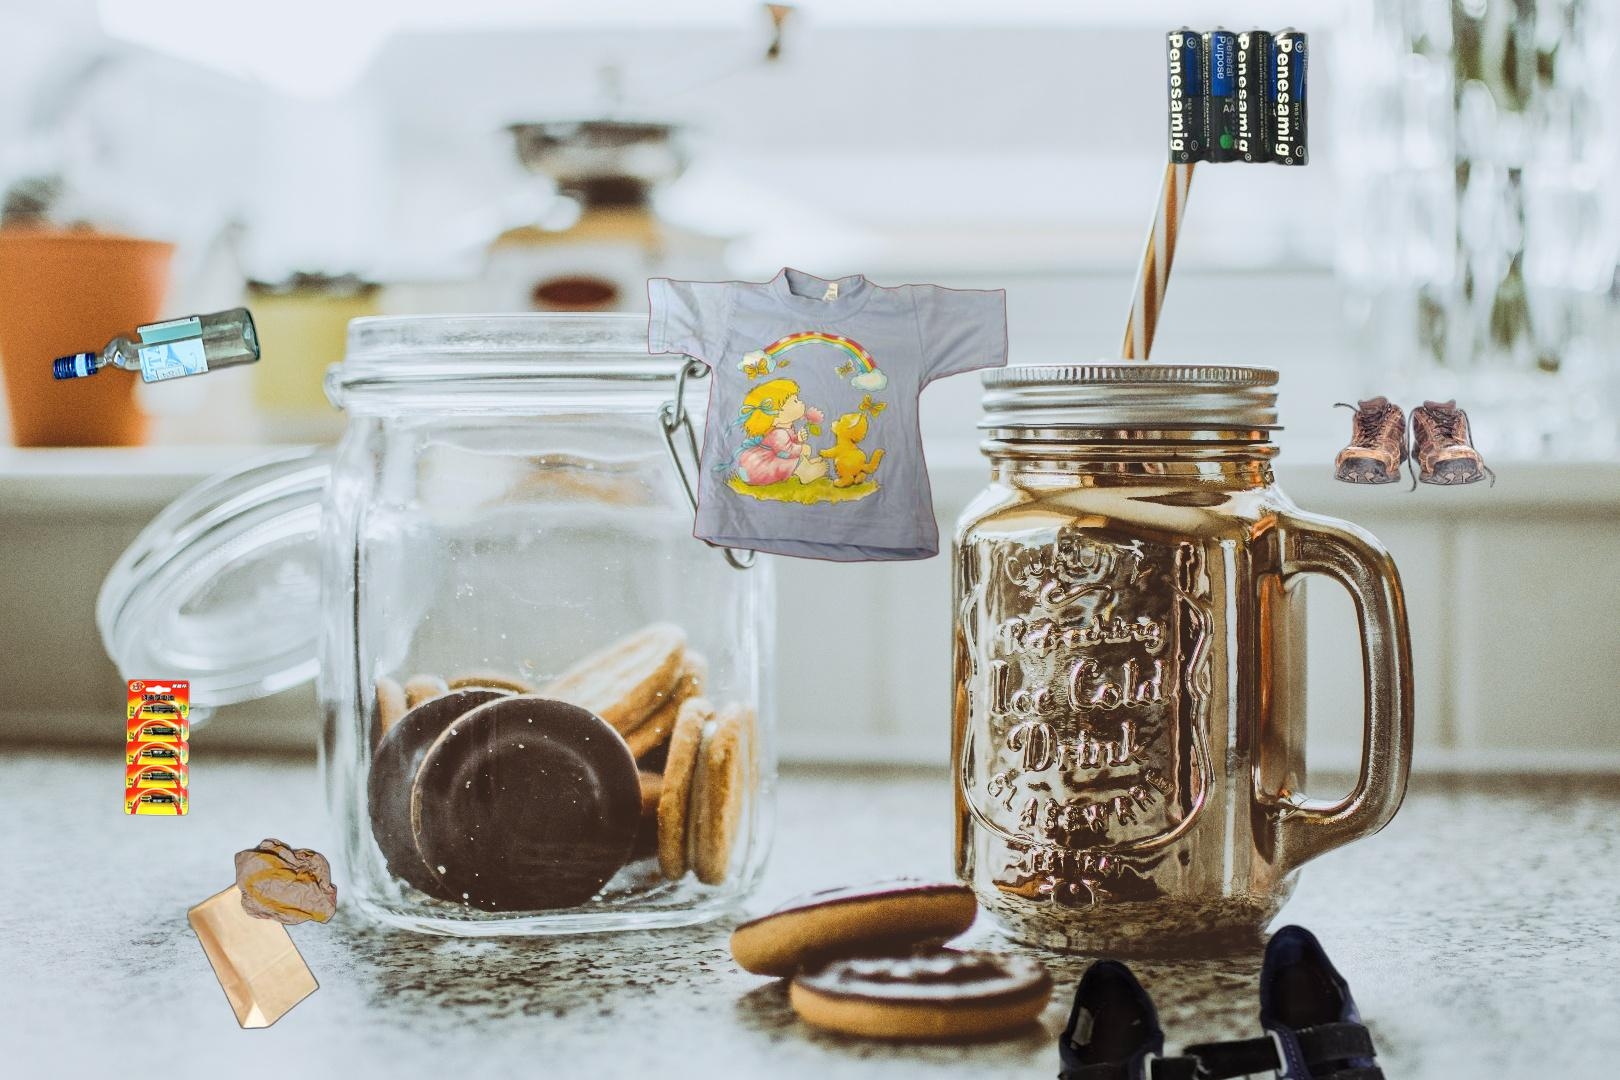battery: (1164, 23, 1310, 168), (122, 677, 192, 818)
clothes: (644, 264, 1011, 565)
glass: (47, 303, 265, 391)
paper-bag: (184, 837, 337, 1032)
shoes: (1047, 920, 1416, 1080), (1331, 394, 1498, 501)
